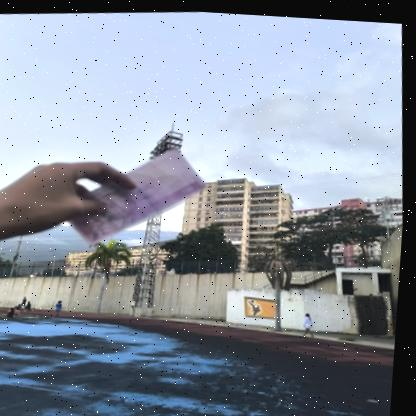one_hundred-back-vef: (62, 137, 216, 253)
